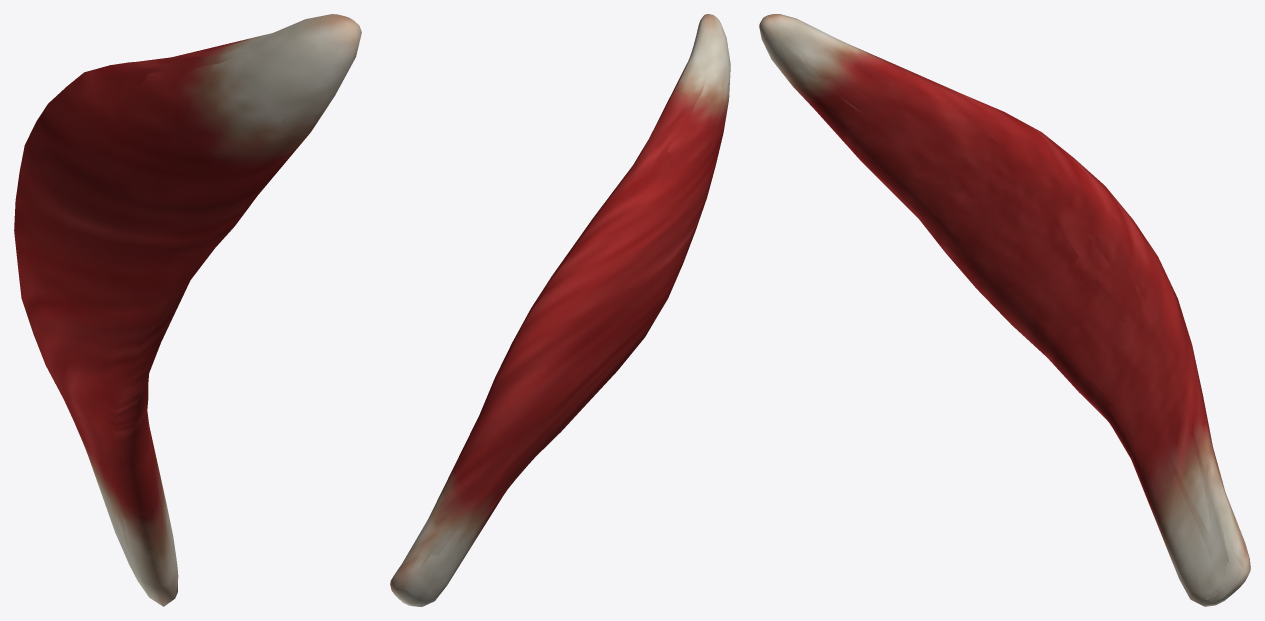
File: L Tensor Fasciae Antebrachii.fbx
3 views of the same model, side by side, from view 1: azimuth 30°, elevation 25°; view 2: azimuth 150°, elevation 25°; view 3: azimuth 270°, elevation 25° (orthographic). The views are drawn at different scales.
Visible parts, largest first — view 1: L Tensor Fasciae Antebrachii, L Tensor Fasciae Antebrachii low, L Tensor Fasciae Antebrachii high; view 2: L Tensor Fasciae Antebrachii, L Tensor Fasciae Antebrachii low, L Tensor Fasciae Antebrachii high; view 3: L Tensor Fasciae Antebrachii, L Tensor Fasciae Antebrachii low, L Tensor Fasciae Antebrachii high.
Boxes of the visible parts, x1,y1,x2,y2 form: L Tensor Fasciae Antebrachii: (14, 14, 361, 606); L Tensor Fasciae Antebrachii low: (21, 18, 355, 605); L Tensor Fasciae Antebrachii high: (28, 16, 356, 574); L Tensor Fasciae Antebrachii: (390, 14, 730, 606); L Tensor Fasciae Antebrachii low: (390, 14, 730, 606); L Tensor Fasciae Antebrachii high: (400, 17, 724, 602); L Tensor Fasciae Antebrachii: (759, 14, 1250, 606); L Tensor Fasciae Antebrachii low: (762, 15, 1249, 606); L Tensor Fasciae Antebrachii high: (762, 14, 1245, 599).
Size of the model in its own units: 1.55 by 4.28 by 3.55.
Materials: 1 (1 with a texture image).
